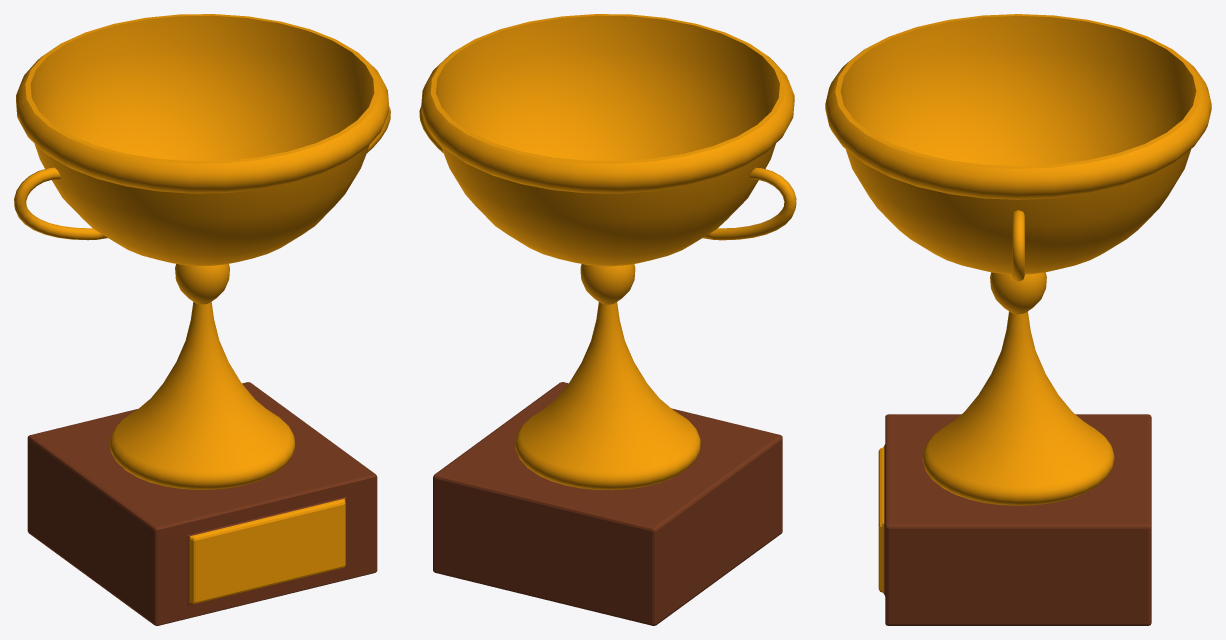
The model's file is trophy.glb.
3 views of the same model, side by side, from view 1: azimuth 30°, elevation 25°; view 2: azimuth 150°, elevation 25°; view 3: azimuth 270°, elevation 25° (orthographic). The views are drawn at different scales.
Parts seen in each view (by area): view 1: Sphere, Cube, NurbsPath; view 2: Sphere, Cube, NurbsPath; view 3: Sphere, Cube, NurbsPath.
Boxes of the visible parts, x1,y1,x2,y2 form: Sphere: (16,14,388,489); Cube: (27,382,377,625); NurbsPath: (14,106,390,240); Sphere: (421,14,794,490); Cube: (433,382,782,625); NurbsPath: (419,106,796,240); Sphere: (825,14,1211,505); Cube: (878,414,1151,625); NurbsPath: (1012,210,1024,281).
Bounding box in the file's own units: 2.44 × 2.89 × 2.11.
